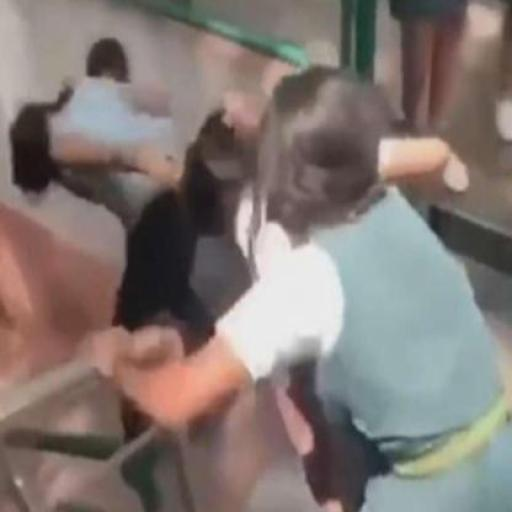Fighting: (10, 30, 512, 511)
